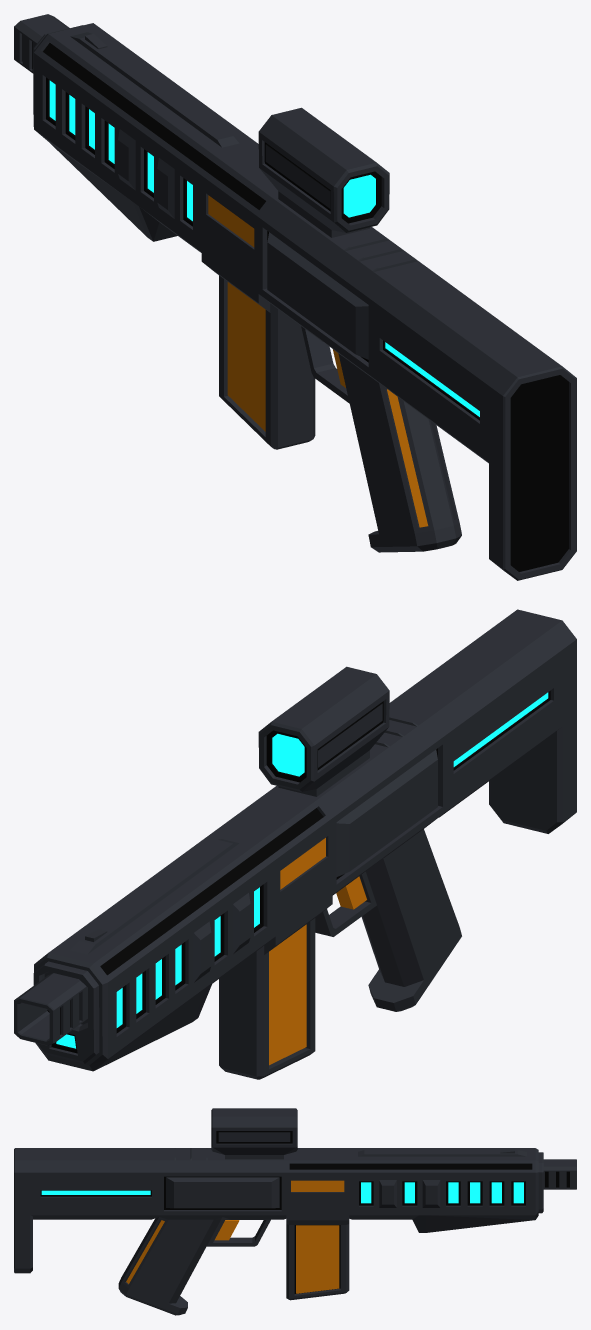
File: SM_Assault_Rifle.fbx
The picture shows the model from 3 angles, top to bottom: view 1: azimuth 30°, elevation 25°; view 2: azimuth 150°, elevation 25°; view 3: azimuth 270°, elevation 25°; orthographic projection. The views are drawn at different scales.
Visible parts, largest first — view 1: SM_Assault_Rifle; view 2: SM_Assault_Rifle; view 3: SM_Assault_Rifle.
Part boxes in pixels (<box>): SM_Assault_Rifle: <box>14,14,576,580</box>; SM_Assault_Rifle: <box>14,609,576,1079</box>; SM_Assault_Rifle: <box>14,1108,576,1315</box>.
Size of the model in its own units: 9.25 by 38.57 by 98.41.
